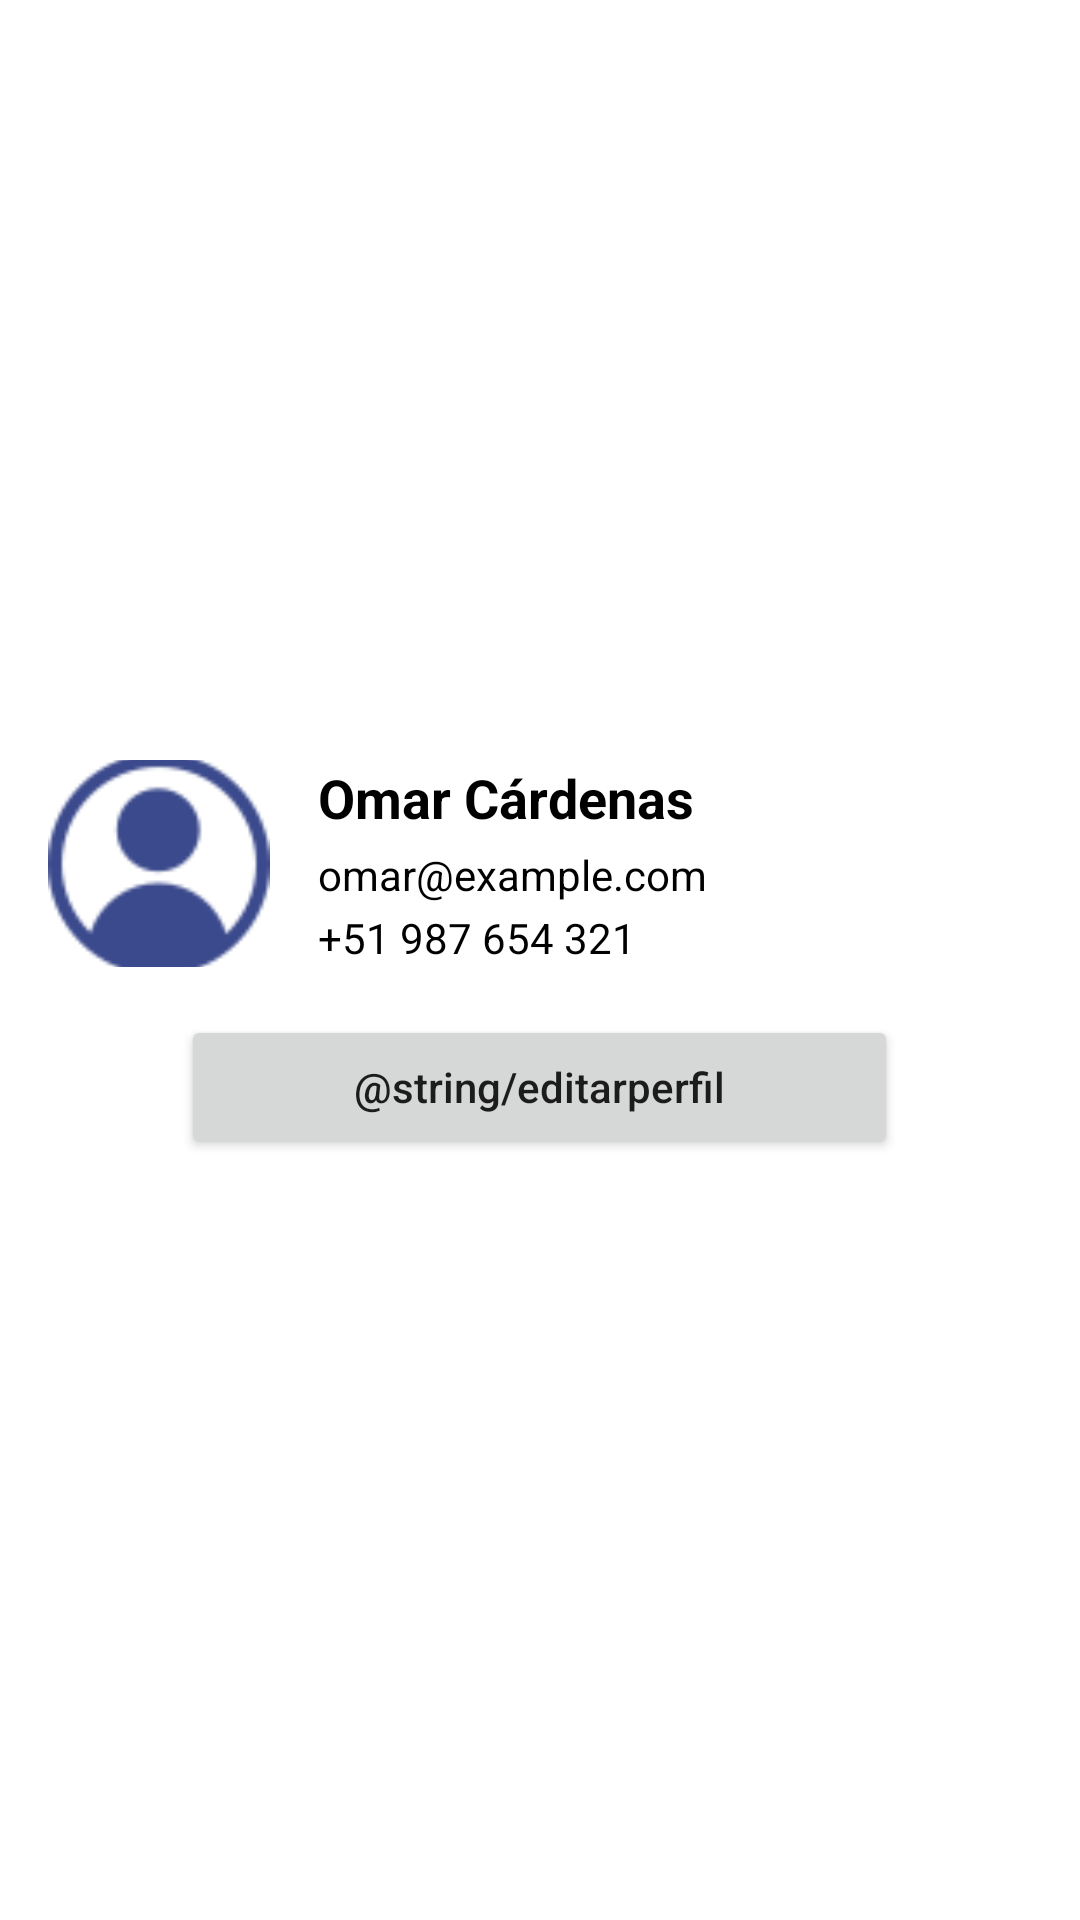

Point at icon controls on the screen. Image size 1080×1920, points as (x,y).
user: (159,863)
